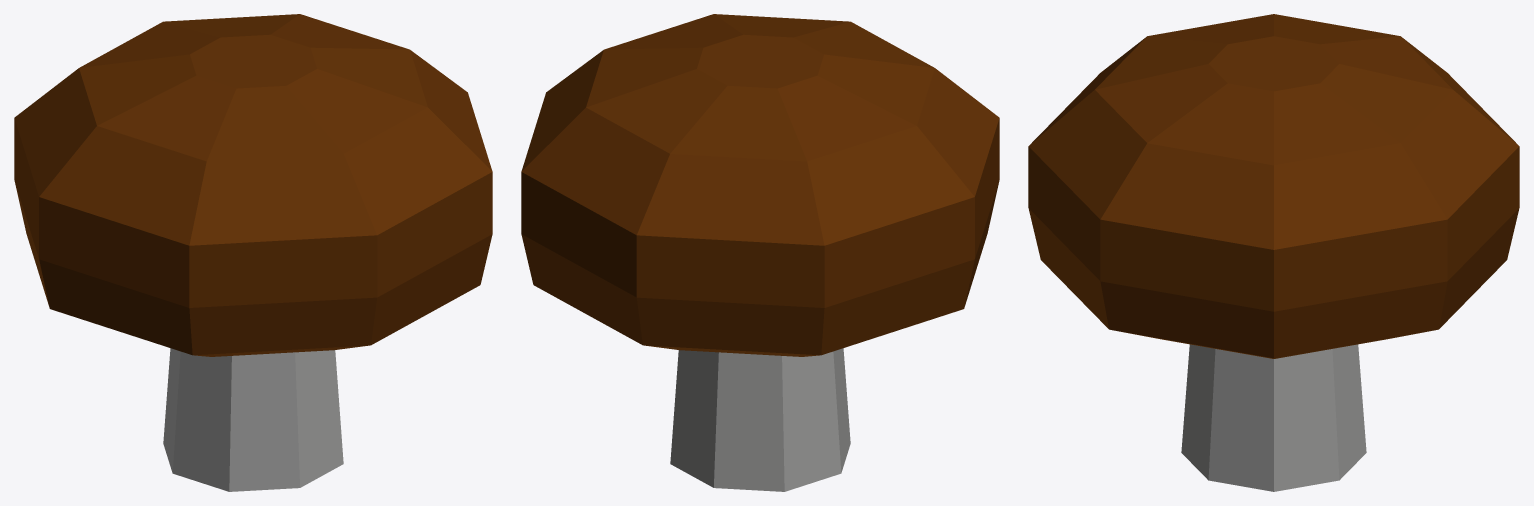
File: mushroom01.gltf
3 views of the same model, side by side, from view 1: azimuth 30°, elevation 25°; view 2: azimuth 150°, elevation 25°; view 3: azimuth 270°, elevation 25° (orthographic).
Parts seen in each view (by area): view 1: Cylinder; view 2: Cylinder; view 3: Cylinder.
Part boxes in pixels (x1,y1,x2,y2): Cylinder: (14,14,492,491); Cylinder: (521,14,999,491); Cylinder: (1028,14,1519,491).
Size of the model in its own units: 0.046 by 0.0402 by 0.046.
Materials: 1 (1 with a texture image).
